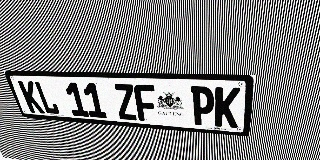1: (63, 82, 89, 117), (81, 83, 107, 118)
F: (133, 84, 158, 122)
K: (214, 87, 241, 128), (17, 81, 45, 114)
L: (33, 81, 61, 115)
P: (191, 86, 214, 126)
Z: (113, 84, 138, 121)
